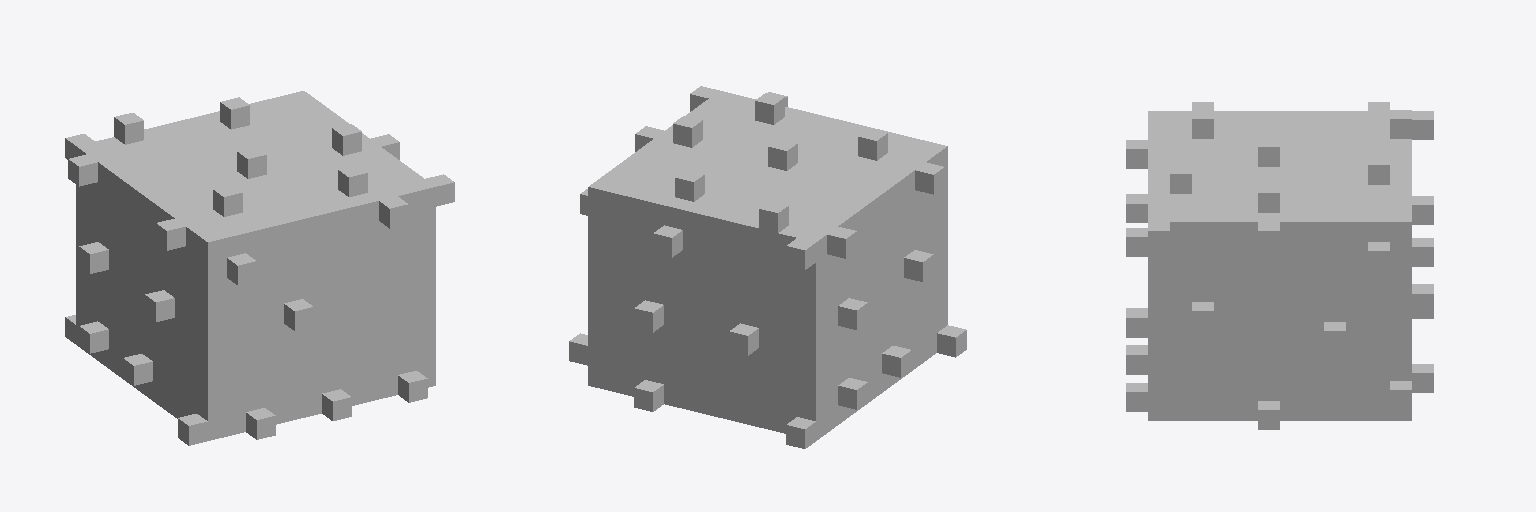
The model's file is hay bale.obj.
3 renders of one model, left to right at view 1: azimuth 30°, elevation 25°; view 2: azimuth 150°, elevation 25°; view 3: azimuth 270°, elevation 25°, orthographic.
Bounding box in the file's own units: 14 × 11 × 14.